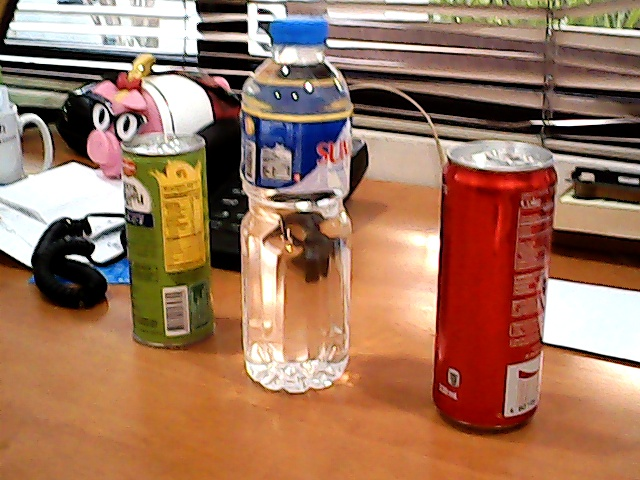Cola: (408, 116, 566, 444)
Pine Juice: (100, 125, 227, 360)
Summit Water: (226, 4, 369, 404)
